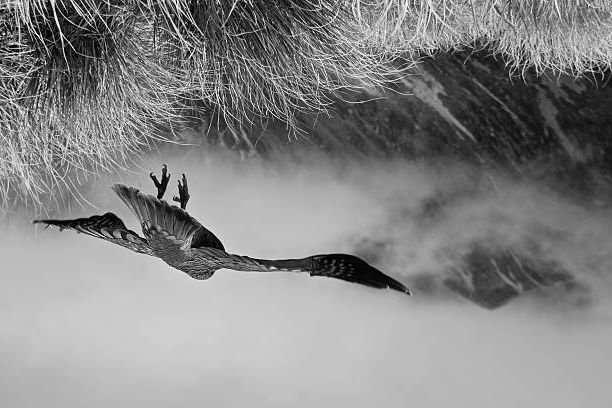Bird: (31, 159, 414, 303)
